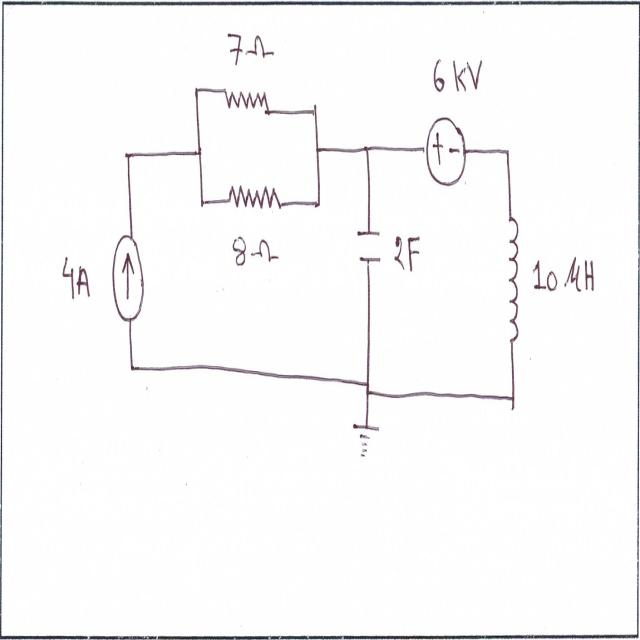capacitor: (354, 216, 383, 272)
current_source: (109, 228, 152, 325)
ground: (351, 414, 382, 469)
inductor: (503, 214, 524, 356)
resistor: (225, 175, 286, 218), (221, 82, 272, 122)
voltage_source: (421, 99, 472, 195)
